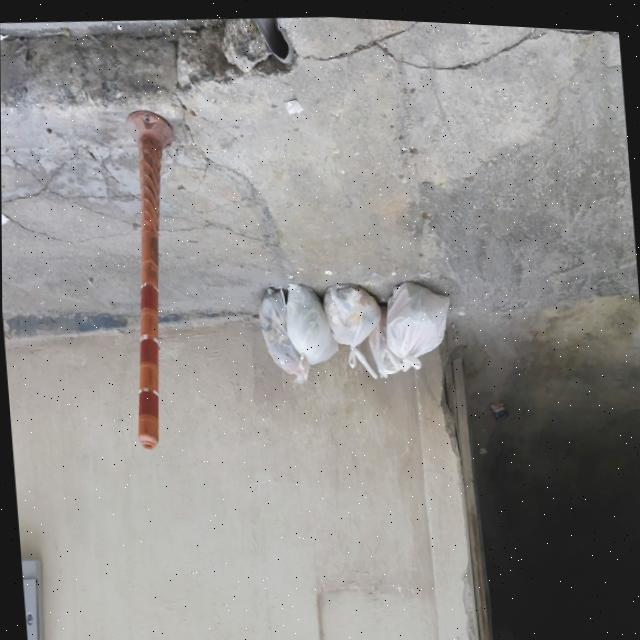Organic Waste -White Bag-: (381, 273, 455, 370), (321, 275, 385, 379), (256, 281, 312, 384), (283, 276, 339, 364), (364, 296, 400, 376)
